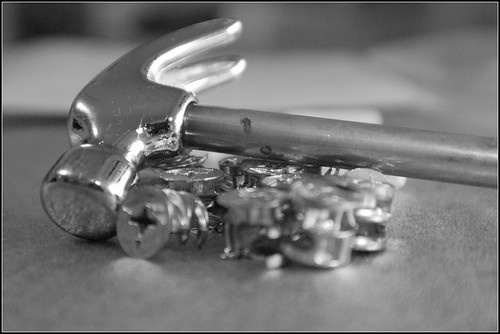hammer: (38, 16, 500, 242)
